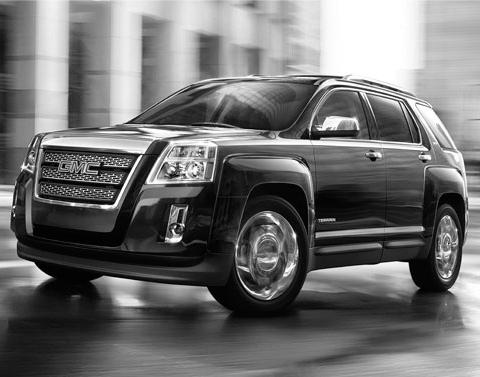car: (6, 74, 471, 320)
